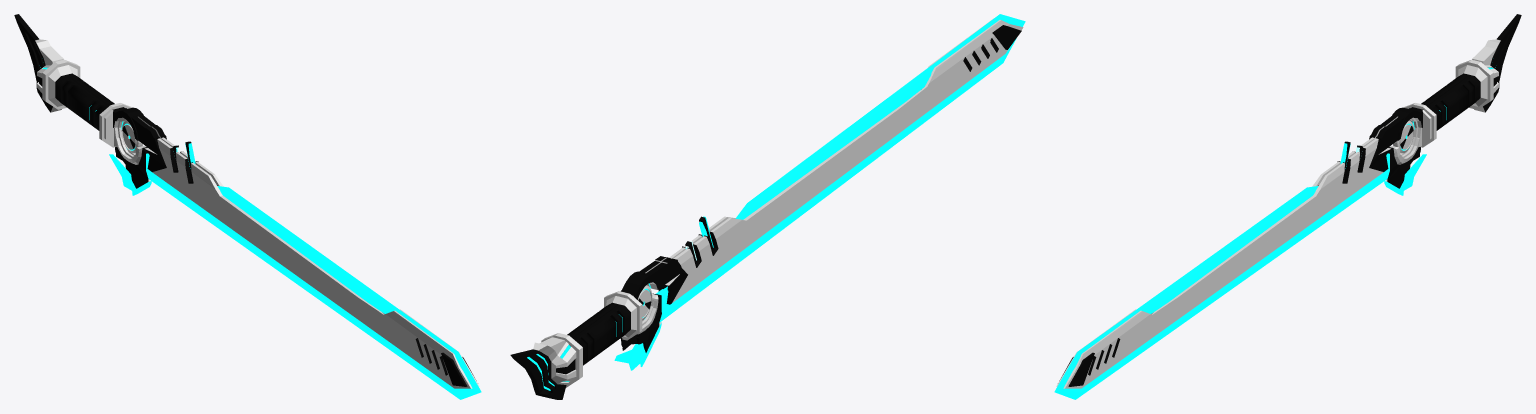
Rendered from Sword.fbx.
3 views of the same model, side by side, from view 1: azimuth 30°, elevation 25°; view 2: azimuth 150°, elevation 25°; view 3: azimuth 330°, elevation 25° (orthographic). The views are drawn at different scales.
Parts seen in each view (by area): view 1: Cube; view 2: Cube; view 3: Cube.
Boxes of the visible parts, x1=… form: Cube: x1=14, y1=14, x2=481, y2=399; Cube: x1=510, y1=14, x2=1025, y2=399; Cube: x1=1054, y1=14, x2=1521, y2=399.
Size of the model in its own units: 86.4 by 230 by 2019.
